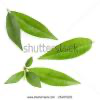Peach leaf: (11, 10, 59, 41), (36, 37, 94, 62), (29, 67, 82, 87), (7, 12, 23, 53), (1, 69, 25, 87), (25, 71, 43, 90), (24, 55, 34, 68)
